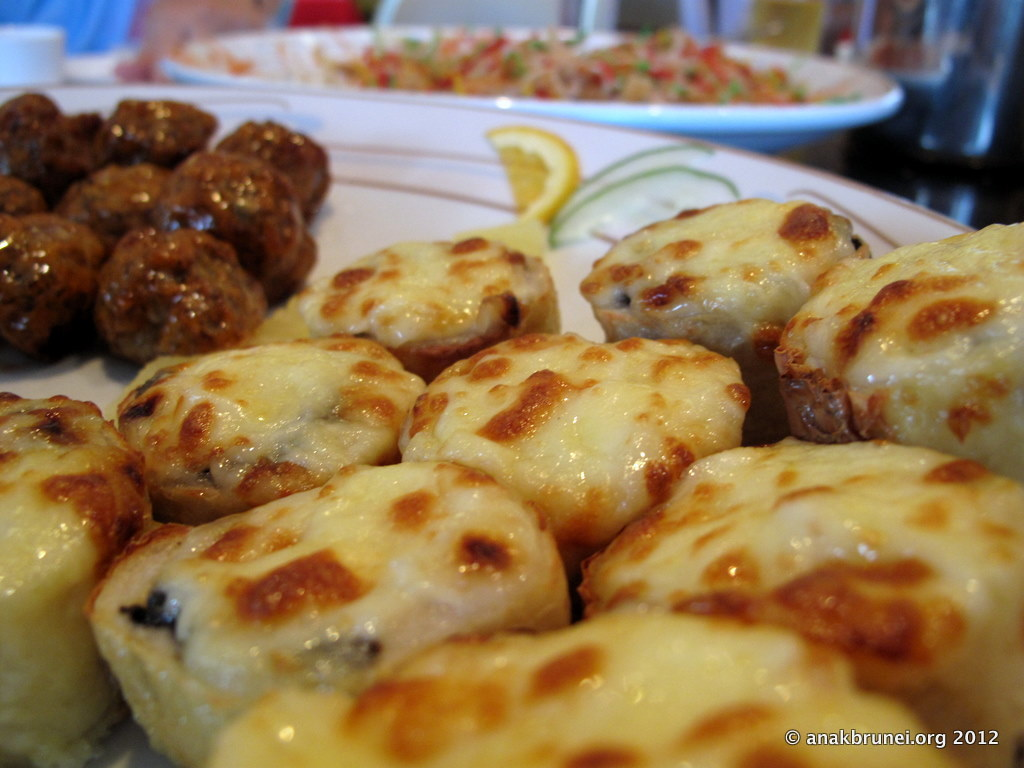person: (0, 0, 344, 83)
